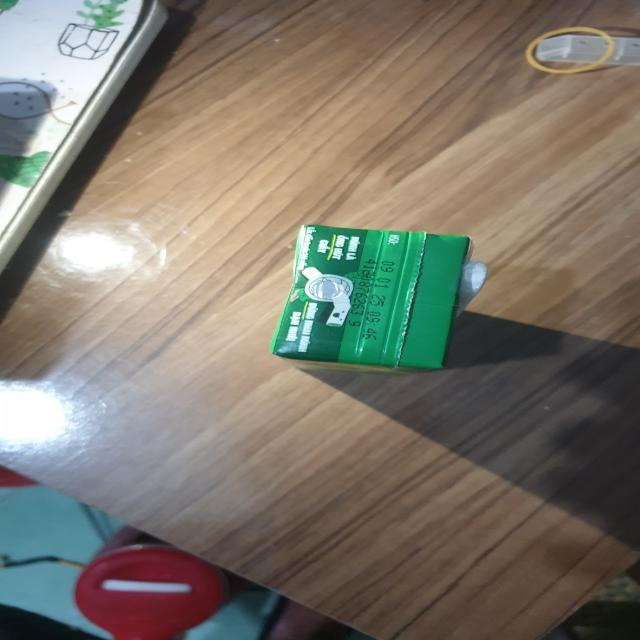Milo: (270, 226, 474, 380)
